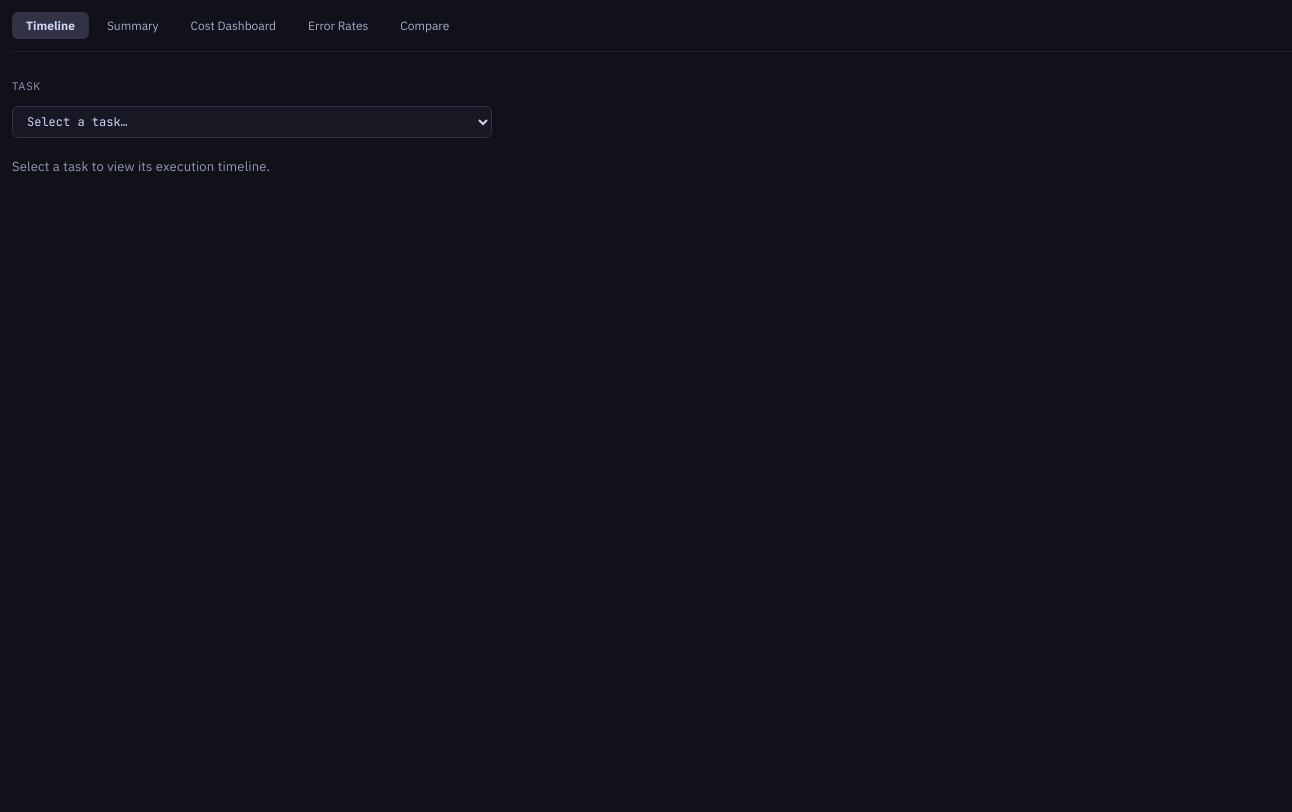
Scenario: M6.3 — Observability control names (O3) › gives the date-range inputs accessible names
Expected: the element named "Observability views" is shown, [12,12,463,39]
What coordinates should you click on to do the following:
click the button "Cost Dashboard"
I would click on:
 (233, 26)
Its box is [177,12,290,39].
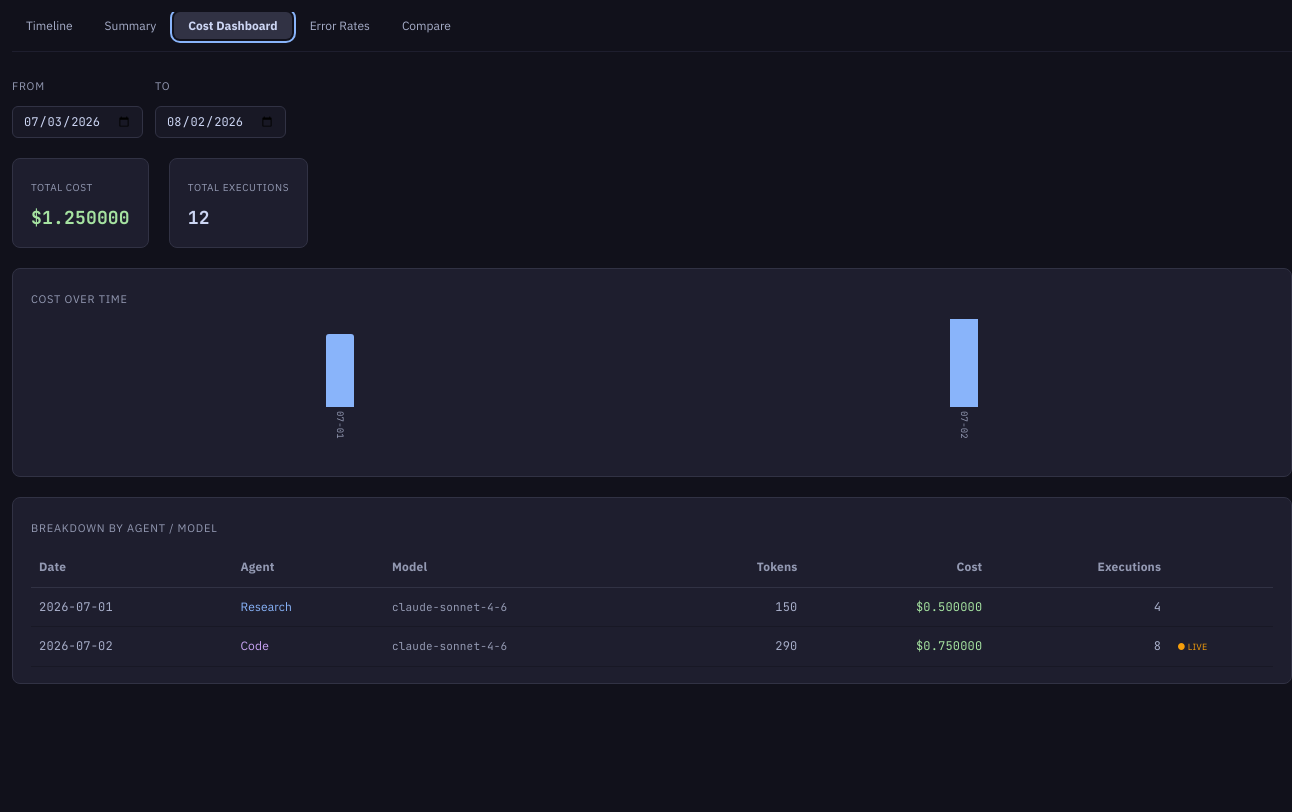
Now the text "Cost Over Time" is shown, box [31,292,128,306]
